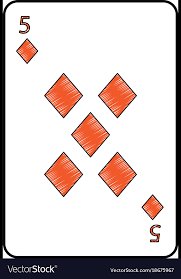five of diamonds: (5, 4, 180, 259)
